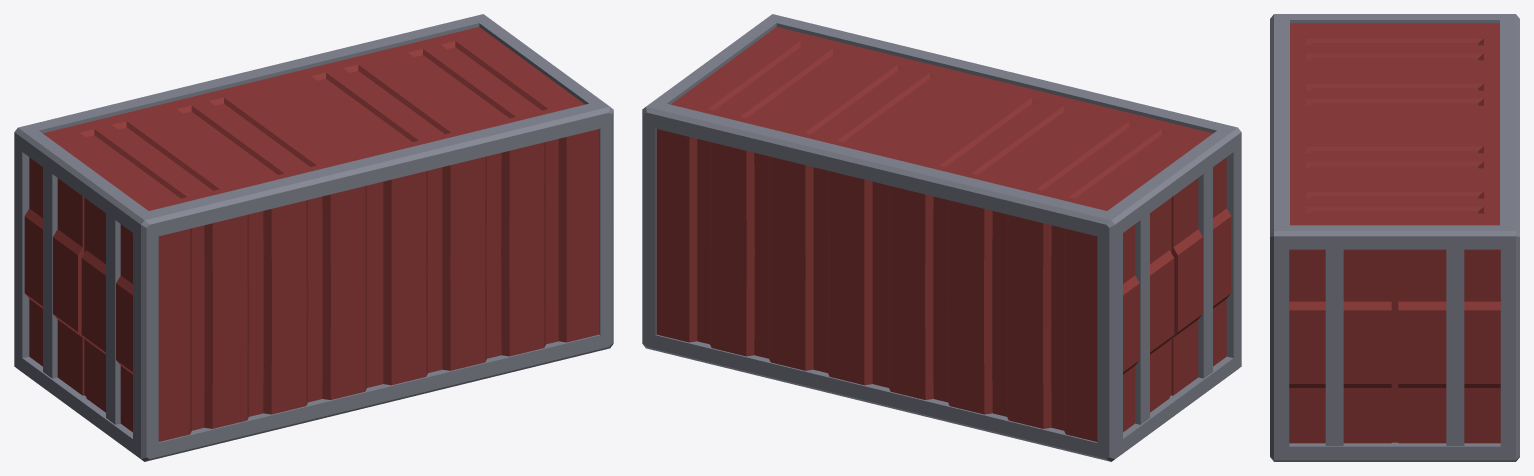
File: Container.gltf
The picture shows the model from 3 angles, left to right: view 1: azimuth 30°, elevation 25°; view 2: azimuth 150°, elevation 25°; view 3: azimuth 270°, elevation 25°; orthographic projection. The views are drawn at different scales.
Visible parts, largest first — view 1: Container_Long; view 2: Container_Long; view 3: Container_Long.
Boxes of the visible parts, x1,y1,x2,y2 form: Container_Long: [14, 14, 613, 461]; Container_Long: [642, 14, 1241, 461]; Container_Long: [1270, 14, 1519, 461].
Size of the model in its own units: 4.36 by 2.13 by 2.09.
